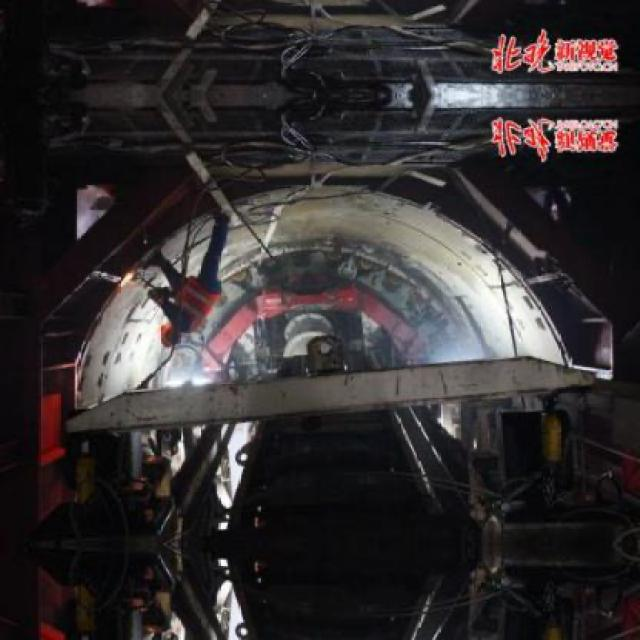con casco: (143, 307, 196, 377)
